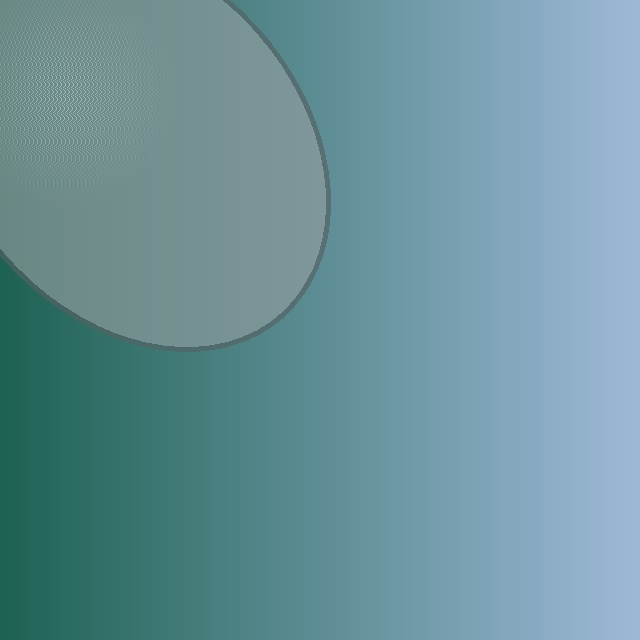lens: (0, 0, 327, 349)
